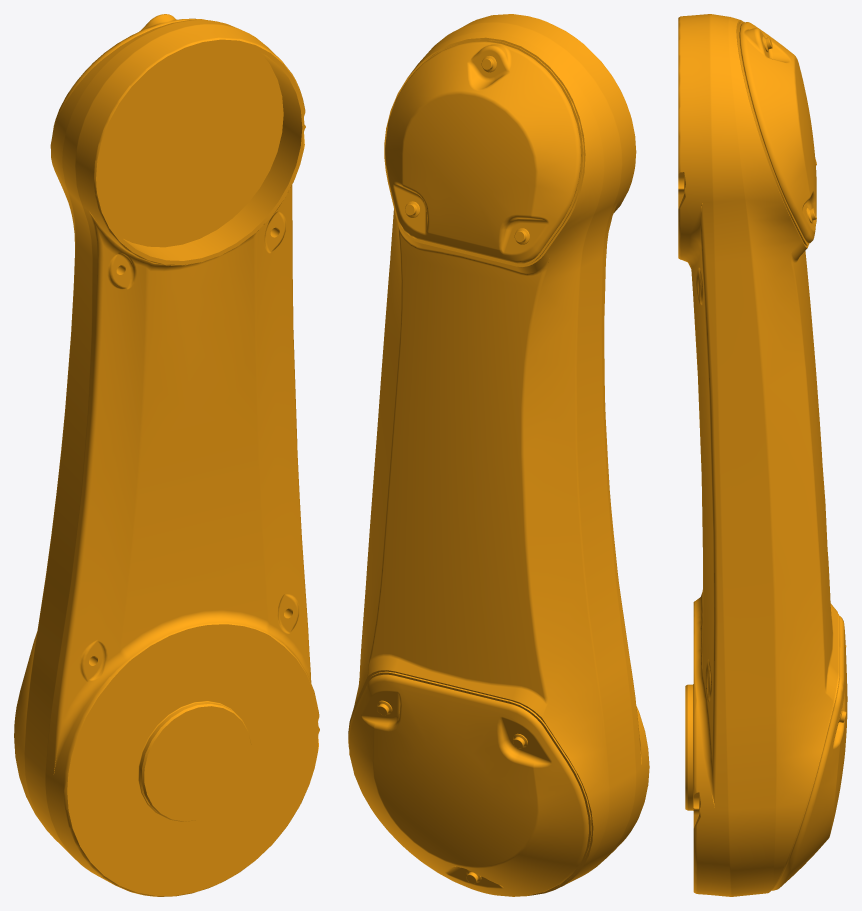
The picture shows the model from 3 angles, left to right: view 1: azimuth 30°, elevation 25°; view 2: azimuth 150°, elevation 25°; view 3: azimuth 270°, elevation 25°; orthographic projection.
Parts seen in each view (by area): view 1: PART_J2_L_from_XG0000078A; view 2: PART_J2_L_from_XG0000078A; view 3: PART_J2_L_from_XG0000078A.
Part boxes in pixels (<box>): PART_J2_L_from_XG0000078A: <box>14,14,319,896</box>; PART_J2_L_from_XG0000078A: <box>348,14,649,896</box>; PART_J2_L_from_XG0000078A: <box>678,14,847,896</box>.
Bounding box in the file's own units: 0.178 × 0.1006 × 0.5629.
